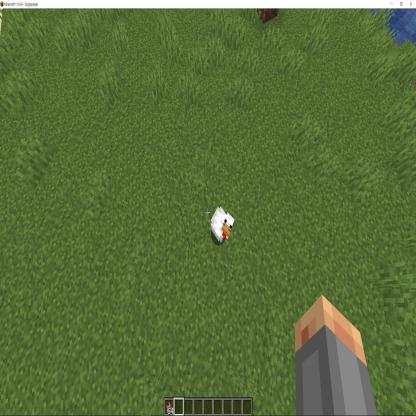minecraft-pigs: (210, 205, 233, 249)
